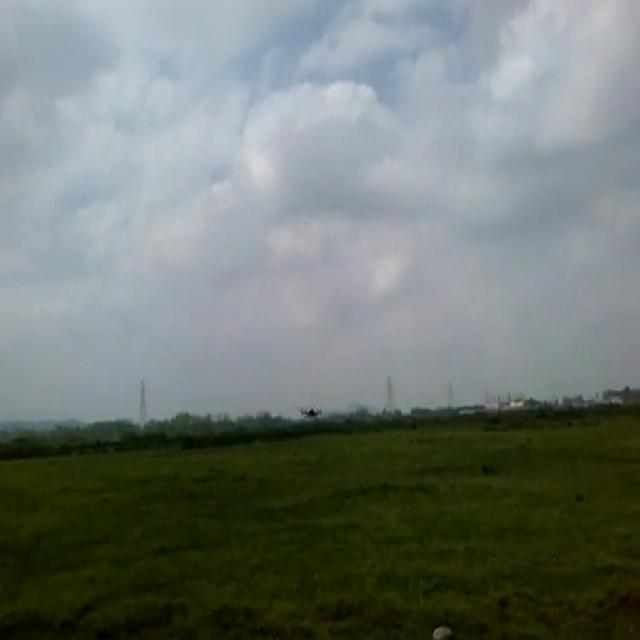drone: (299, 400, 324, 420)
